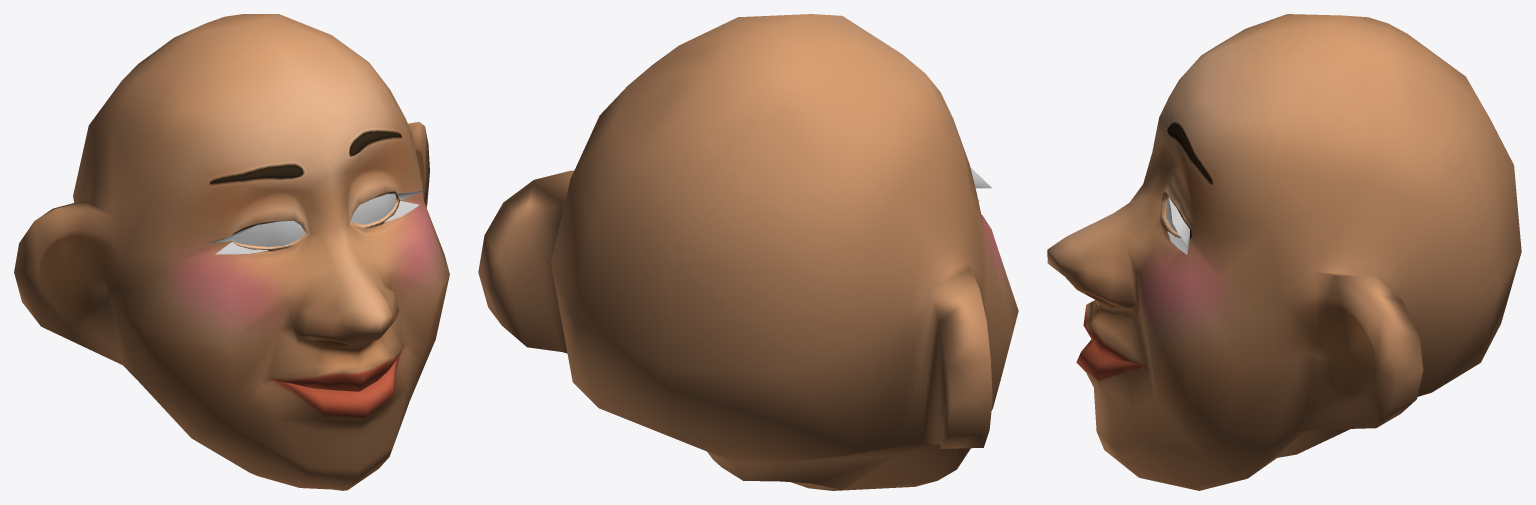
The model's file is F_sitpose05.fbx.
3 views of the same model, side by side, from view 1: azimuth 30°, elevation 25°; view 2: azimuth 150°, elevation 25°; view 3: azimuth 270°, elevation 25° (orthographic). The views are drawn at different scales.
Visible parts, largest first — view 1: HEAD; view 2: HEAD; view 3: HEAD.
Boxes of the visible parts, <box> form: HEAD: <box>14,14,449,490</box>; HEAD: <box>478,14,1018,490</box>; HEAD: <box>1047,14,1521,490</box>.
Bounding box in the file's own units: 27.45 × 25.51 × 24.63.
